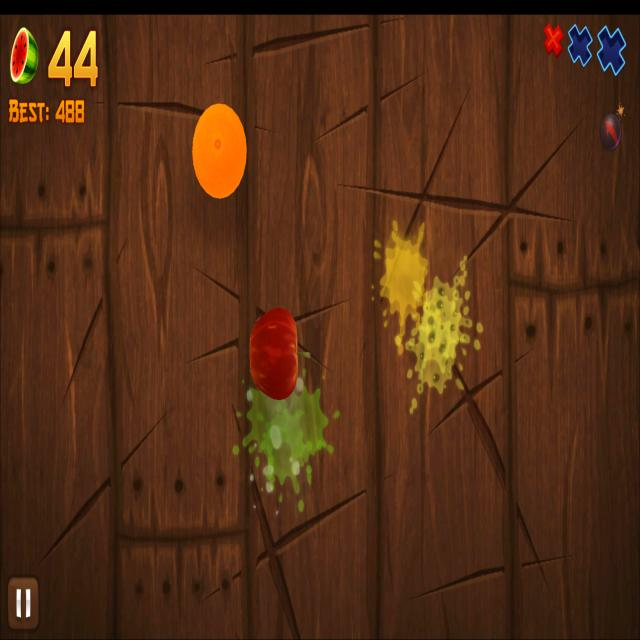fruit: (192, 103, 247, 199), (249, 308, 298, 400)
